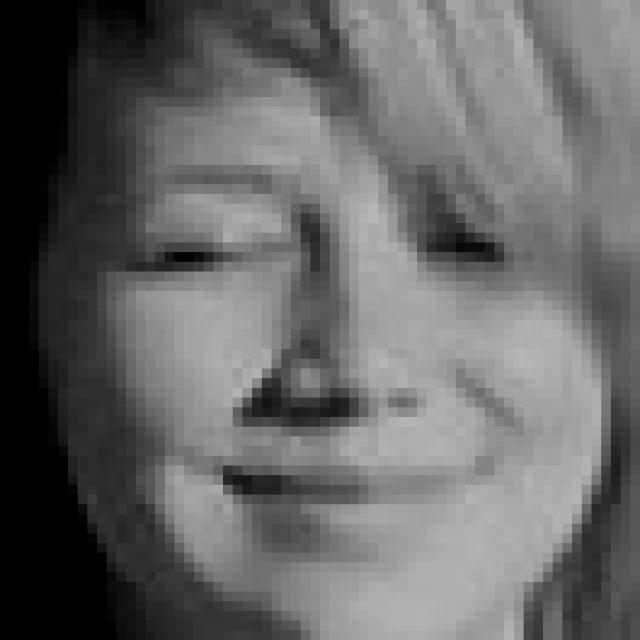real: (32, 0, 612, 640), (114, 202, 532, 296)
